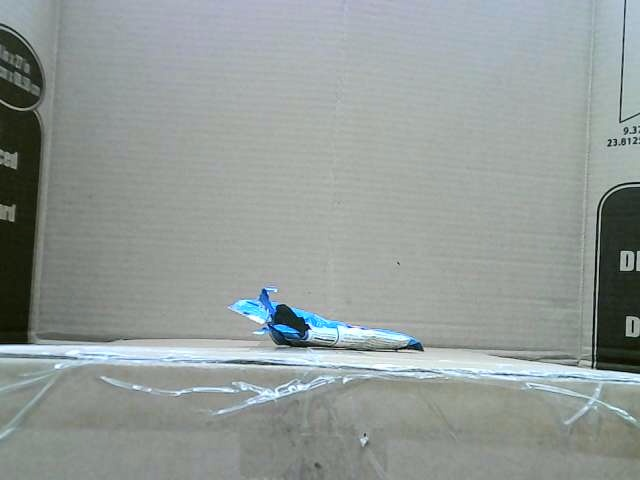CandyWrapper: (225, 287, 423, 352)
